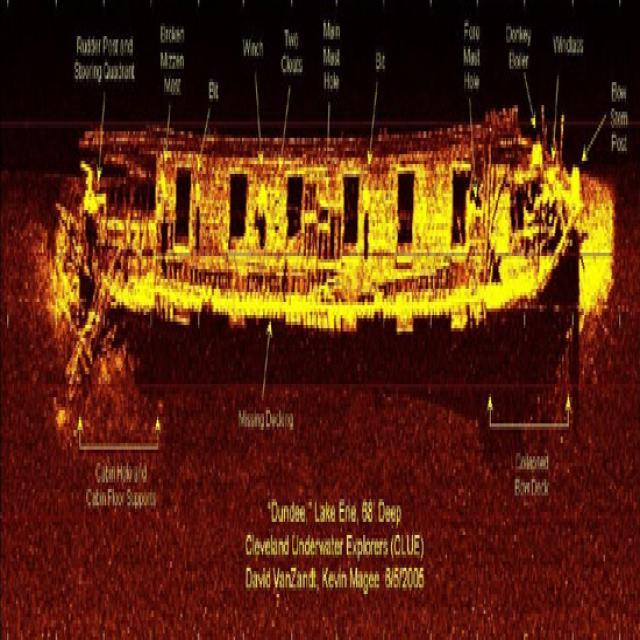shipwreck: (71, 101, 583, 332)
